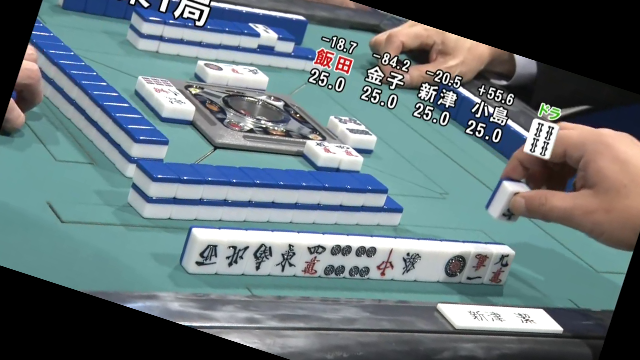Tehai: (174, 222, 519, 293)
